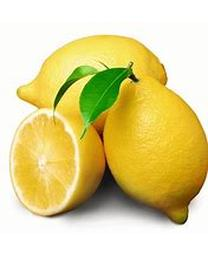lemon: (104, 79, 207, 226), (16, 35, 167, 134), (9, 108, 105, 218)
